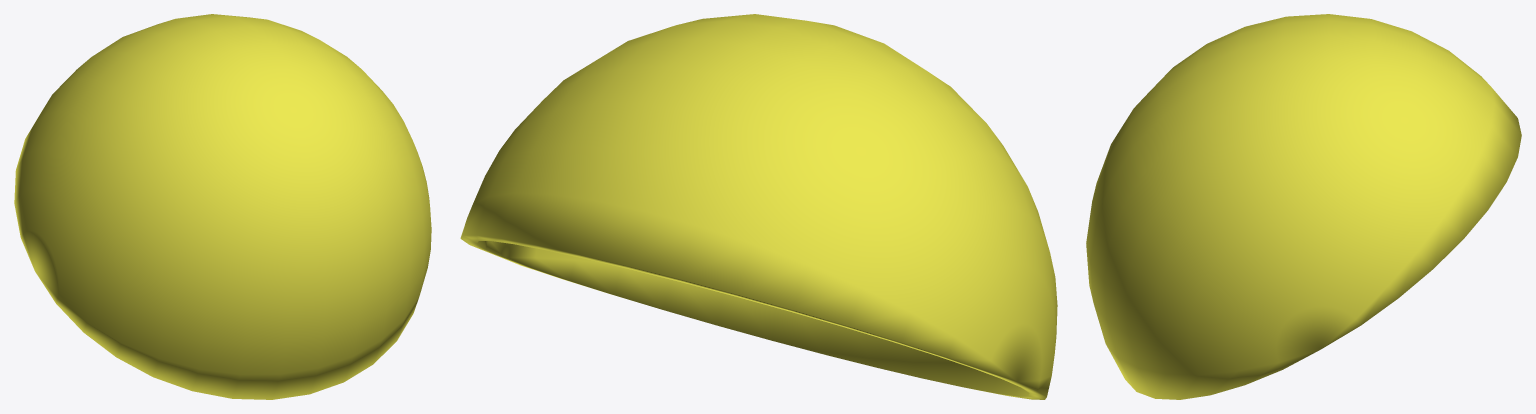
File: Eyelidfullclose.fbx
The picture shows the model from 3 angles, left to right: view 1: azimuth 30°, elevation 25°; view 2: azimuth 150°, elevation 25°; view 3: azimuth 270°, elevation 25°; orthographic projection. The views are drawn at different scales.
Visible parts, largest first — view 1: Eyelid; view 2: Eyelid; view 3: Eyelid.
Boxes of the visible parts, <box> form: Eyelid: <box>14,14,431,399</box>; Eyelid: <box>460,14,1057,399</box>; Eyelid: <box>1086,14,1521,399</box>.
Bounding box in the file's own units: 212 × 162 × 196.
